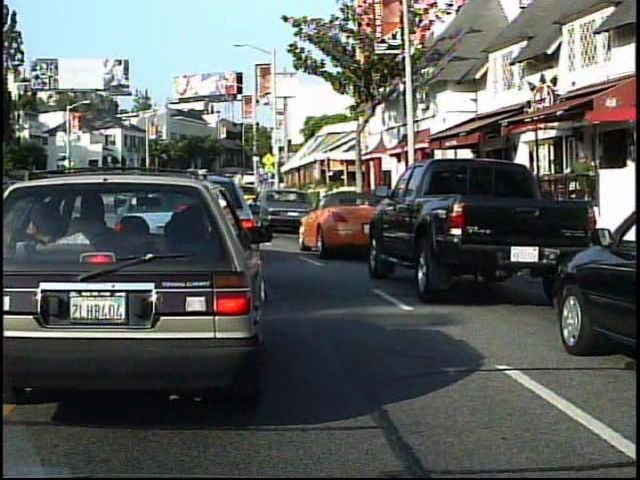person: (566, 147, 599, 224)
